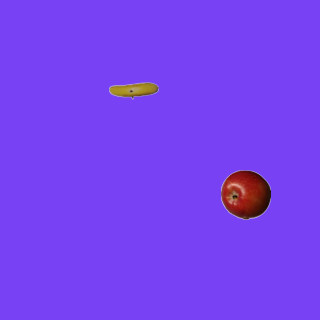Apple Braeburn: (220, 169, 270, 219)
Banana: (108, 65, 158, 115)
